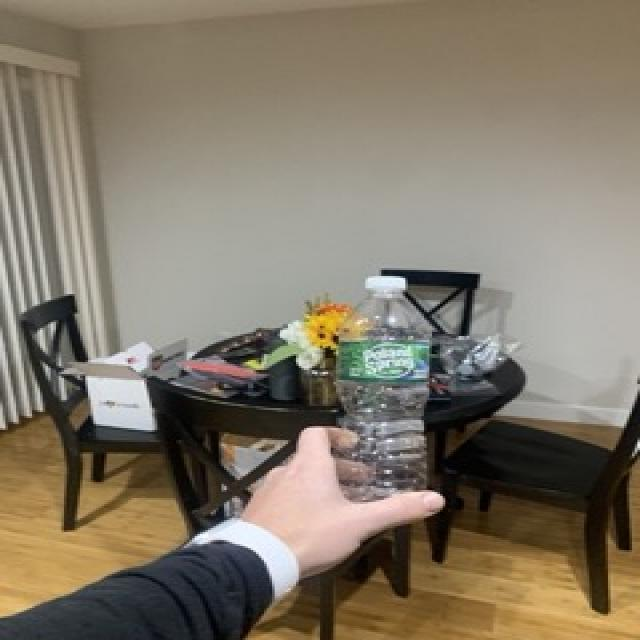water_bottle: (336, 276, 436, 516)
